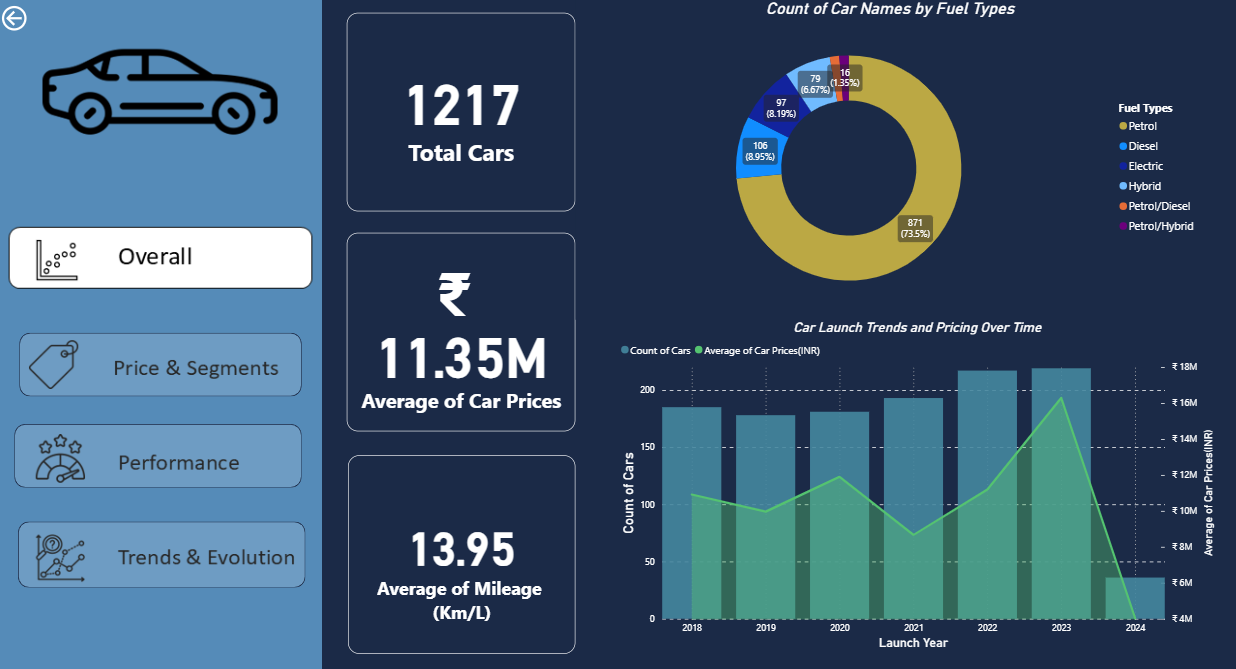

The page's visual inventory and layout, read from the dashboard file:
{"tool":"powerbi","page":{"name":"Overall","canvas":[1650,900],"ordinal":1},"visuals":[{"type":"actionButton","box":[28.3,445,376.7,85],"z":1000},{"type":"actionButton","box":[21.7,566.7,383.3,85],"z":2000},{"type":"actionButton","box":[26.7,696.7,383.3,88.3],"z":5000},{"type":"card","fields":{"Values":["CountNonNull(Cars _DataSET.Cars Names)"]},"box":[465,18.3,305,265],"z":6000},{"type":"card","fields":{"Values":["Avg(Cars _DataSET.Car Prices(INR))"]},"box":[465,311.7,305,265],"z":7000},{"type":"card","fields":{"Values":["Avg(Cars _DataSET.Mileage (Km/L))"]},"box":[466.7,608.3,303.3,265],"z":8000},{"type":"actionButton","box":[0,0,43.3,51.7],"z":9000},{"type":"donutChart","fields":{"Category":["Cars _DataSET.Fuel Types"],"Y":["CountNonNull(Cars _DataSET.Car Names)"]},"box":[769.5,0,839,427.1],"z":10000},{"type":"lineStackedColumnComboChart","title":"Car Launch Trends and Pricing Over Time","fields":{"Category":["Cars _DataSET.Launch Year"],"Y":["CountNonNull(Cars _DataSET.Car Names)"],"Y2":["Avg(Cars _DataSET.Car Prices(INR))"]},"box":[825.4,427.1,801.7,445.8],"z":11000}]}

Visuals, with their boxes in screenshot pixels (x1, y1, x2, y2), scaled from the page's 1650x900 canvas onto the 1236x669 screenshot:
actionButton: left=21, top=331, right=303, bottom=394
actionButton: left=16, top=421, right=303, bottom=484
actionButton: left=20, top=518, right=307, bottom=584
card - CountNonNull(Cars _DataSET.Cars Names): left=348, top=14, right=577, bottom=211
card - Avg(Cars _DataSET.Car Prices(INR)): left=348, top=232, right=577, bottom=429
card - Avg(Cars _DataSET.Mileage (Km/L)): left=350, top=452, right=577, bottom=649
actionButton: left=0, top=0, right=32, bottom=38
donutChart - Cars _DataSET.Fuel Types x CountNonNull(Cars _DataSET.Car Names): left=576, top=0, right=1205, bottom=317
"Car Launch Trends and Pricing Over Time" lineStackedColumnComboChart: left=618, top=317, right=1219, bottom=649
